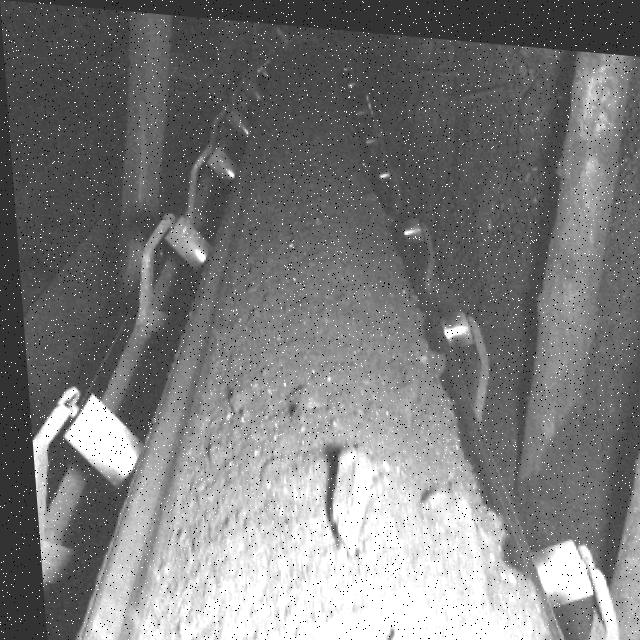large_sized_coal: (316, 440, 391, 556)
